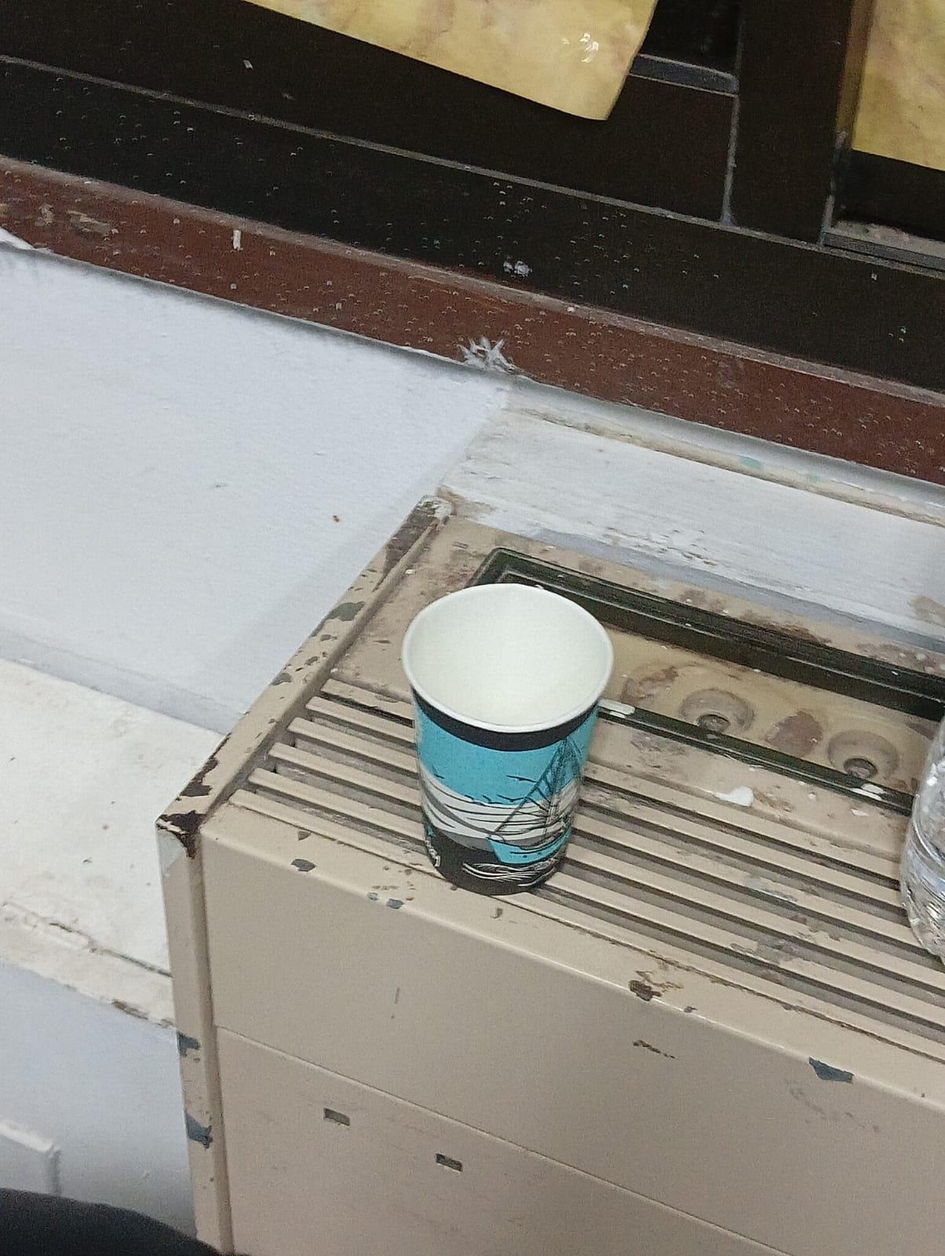cup: (401, 584, 613, 895), (401, 583, 613, 733)
